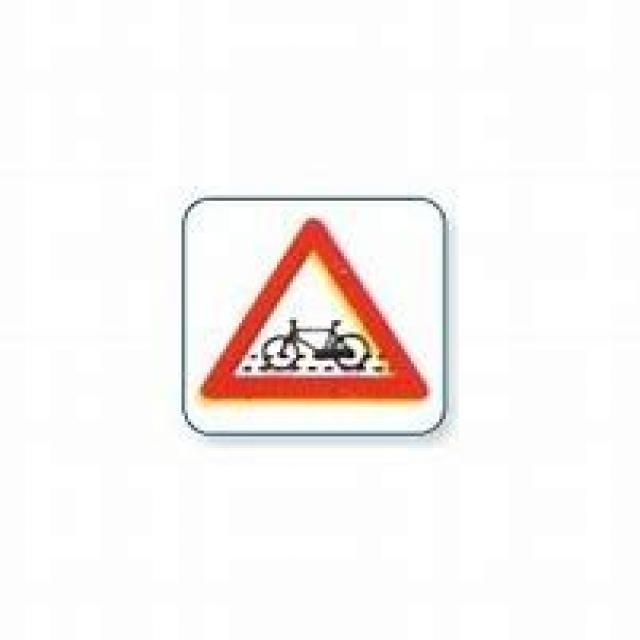CYCLE_CROSSING: (175, 192, 449, 433)
